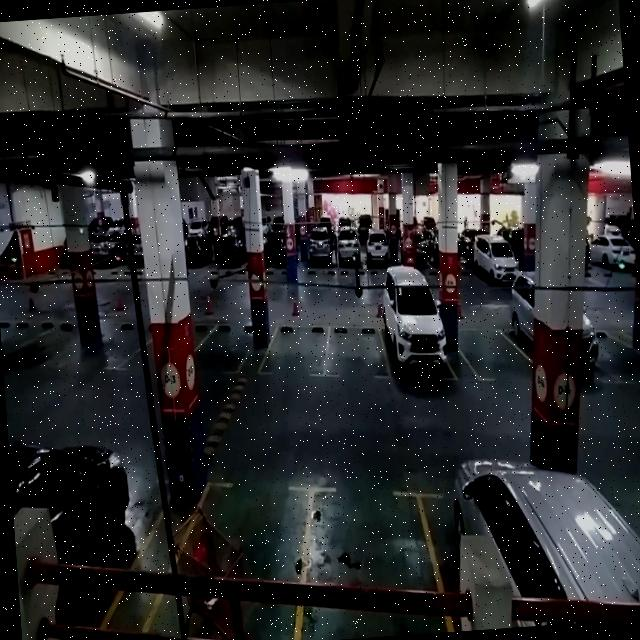empty: (304, 459, 443, 640), (259, 312, 327, 382), (461, 318, 533, 384), (326, 316, 387, 384), (195, 321, 252, 380)
occupied: (424, 437, 610, 632), (378, 275, 456, 384)
